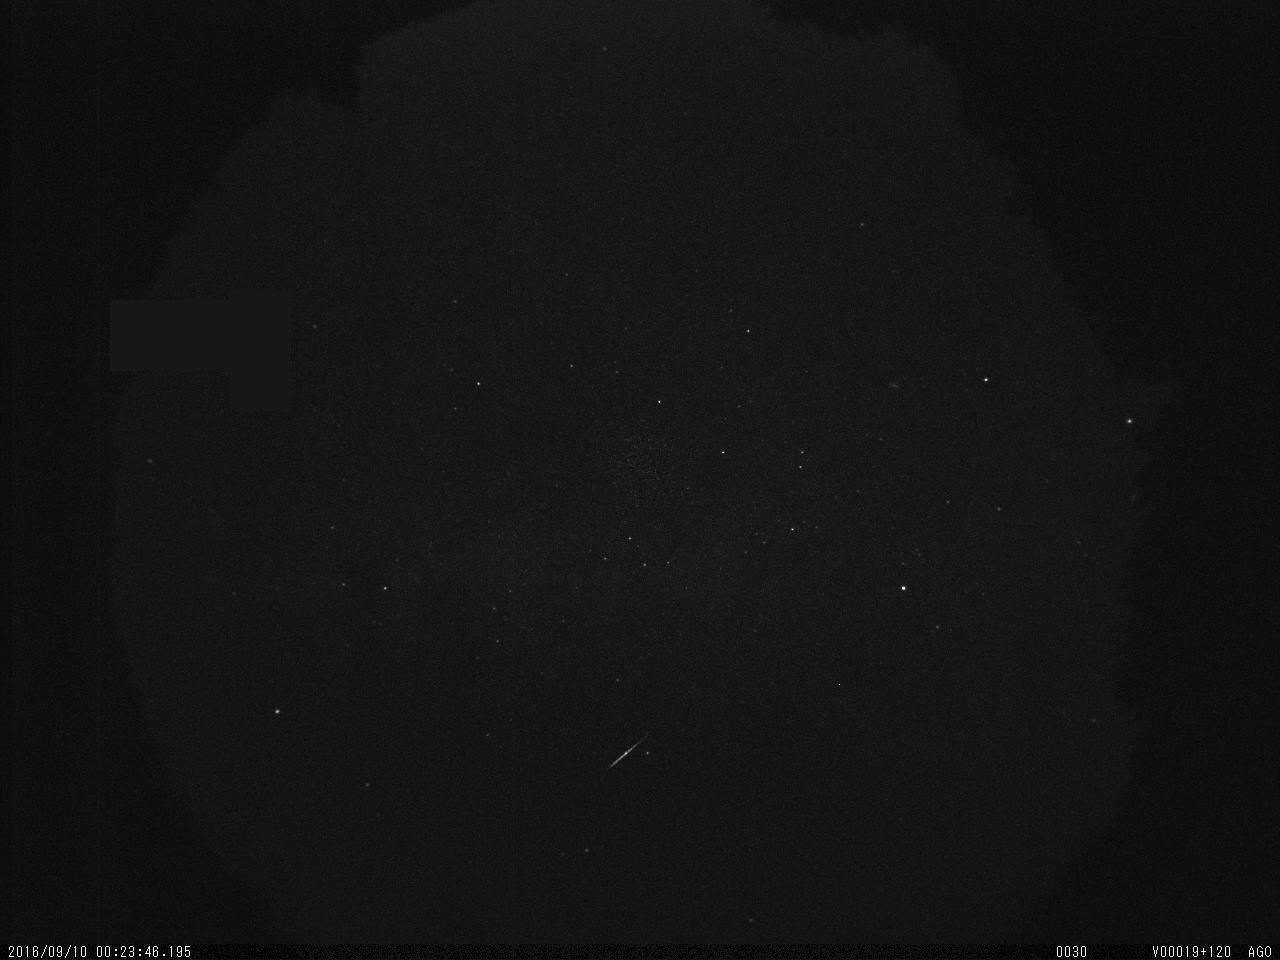Meteor: (607, 731, 653, 771)
